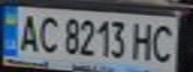1: (93, 17, 112, 59)
2: (78, 16, 96, 57)
3: (109, 18, 130, 60)
8: (60, 15, 81, 56)
A: (12, 10, 42, 53)
C: (148, 20, 181, 63), (33, 12, 60, 54)
H: (127, 19, 160, 62)
